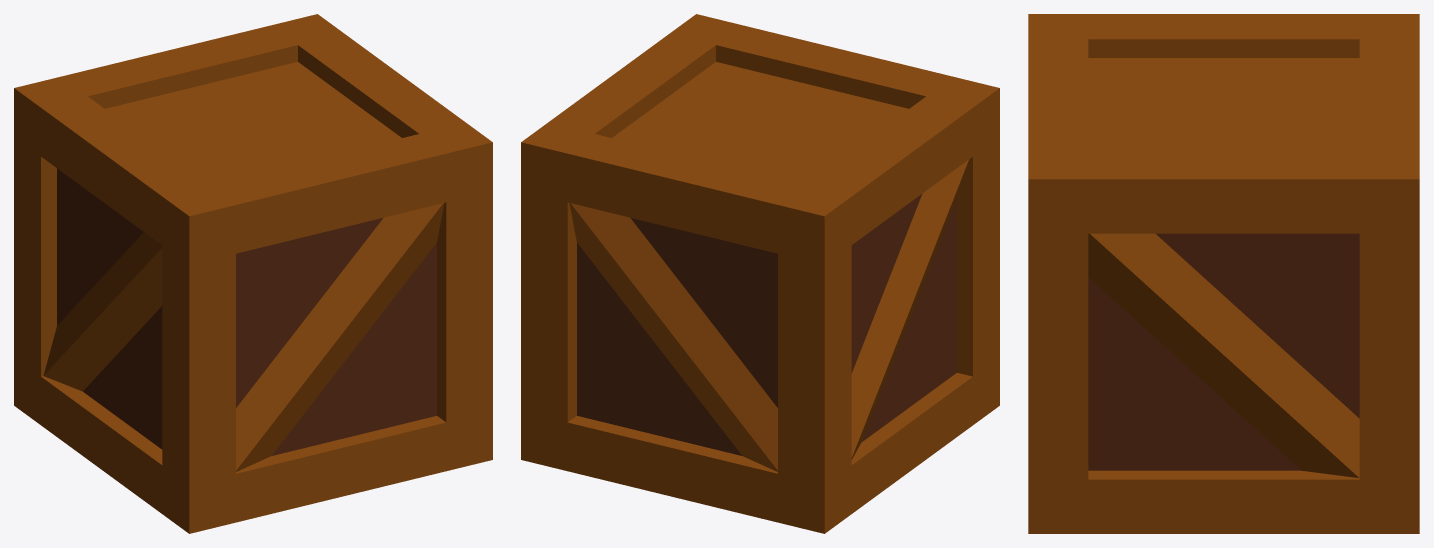
The model's file is crate.glb.
The picture shows the model from 3 angles, left to right: view 1: azimuth 30°, elevation 25°; view 2: azimuth 150°, elevation 25°; view 3: azimuth 270°, elevation 25°; orthographic projection. The views are drawn at different scales.
Parts seen in each view (by area): view 1: Cube; view 2: Cube; view 3: Cube.
Boxes of the visible parts, left/top/right/bottom form: Cube: left=14, top=14, right=492, bottom=533; Cube: left=521, top=14, right=999, bottom=533; Cube: left=1028, top=14, right=1419, bottom=533.
Bounding box in the file's own units: 2 × 2 × 2.
